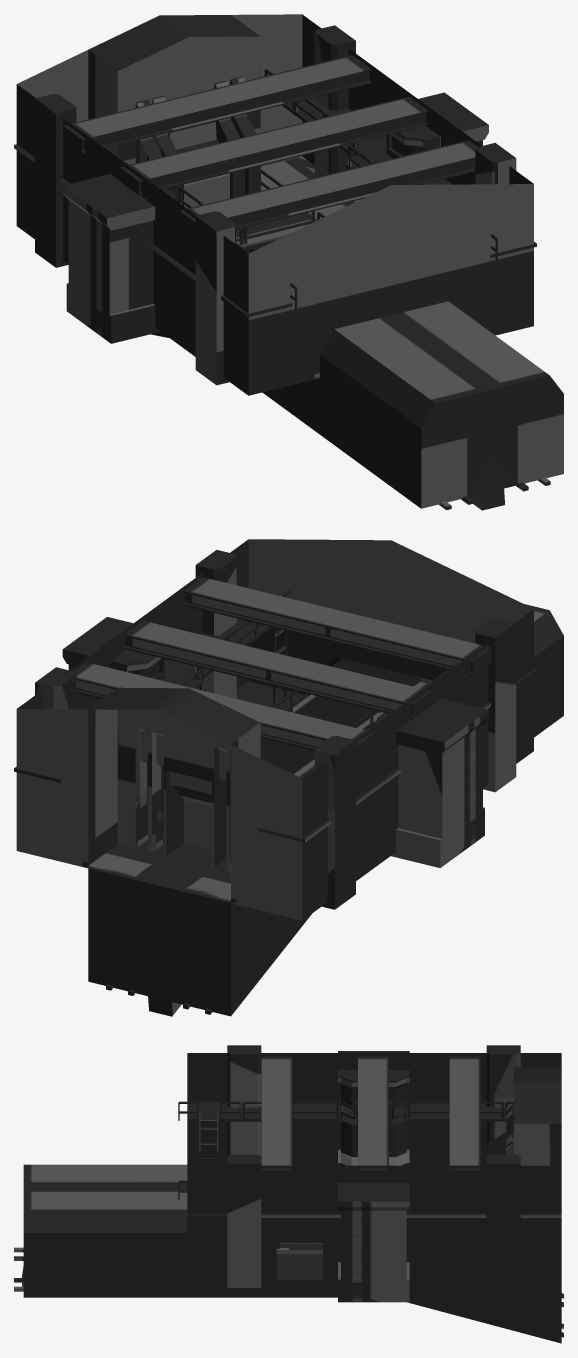
Rendered from osanova.fbx.
3 renders of one model, top to bottom at view 1: azimuth 30°, elevation 25°; view 2: azimuth 150°, elevation 25°; view 3: azimuth 270°, elevation 25°, orthographic. The views are drawn at different scales.
Visible parts, largest first — view 1: Забор; view 2: Забор; view 3: Забор.
Boxes of the visible parts, x1,y1,x2,y2 form: Забор: (14,14,563,510); Забор: (14,539,563,1016); Забор: (14,1045,563,1343).
Size of the model in its own units: 56.24 by 42.89 by 86.85.
